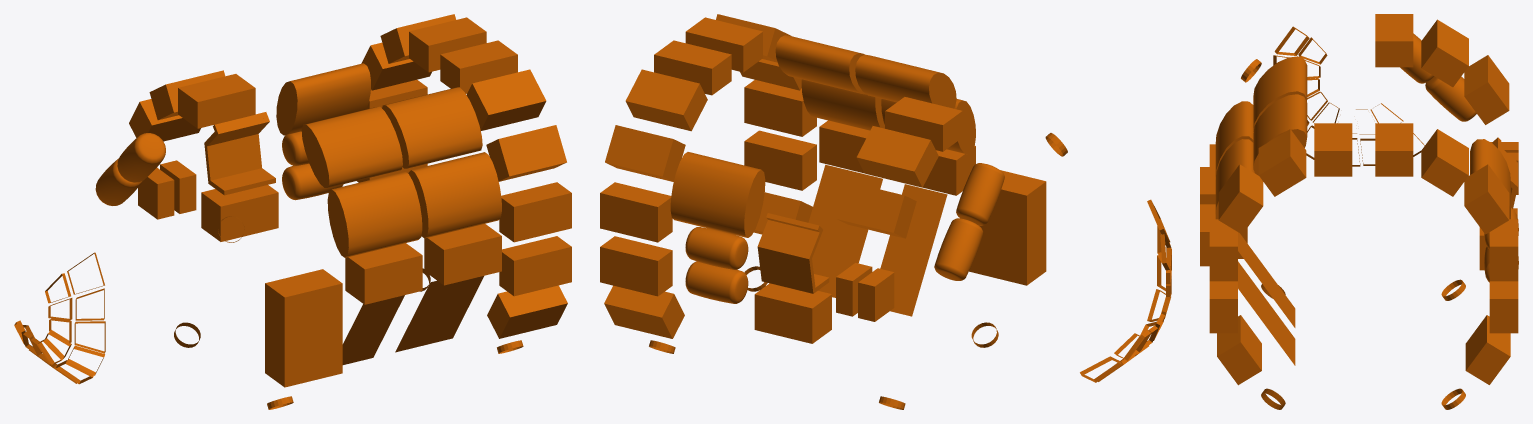
The model's file is Ship_Destructible_002.fbx.
3 renders of one model, left to right at view 1: azimuth 30°, elevation 25°; view 2: azimuth 150°, elevation 25°; view 3: azimuth 270°, elevation 25°, orthographic. The views are drawn at different scales.
Visible parts, largest first — view 1: pasted__pasted__pasted__polySurface135, pasted__pasted__pasted__pCylinder3, pasted__pasted__pasted__pCylinder6, pasted__pasted__pasted__pCylinder4, pasted__pasted__pasted__pCylinder5, pasted__pasted__pasted__pCylinder8, pasted__pasted__pasted__pasted__pCube2, pasted__pasted__pasted__pasted__polySurface134, pasted__pasted__pasted__pasted__pCube37, pasted__pasted__pasted__pasted__pCube8, pasted__pasted__pasted__pasted__pCube1, pasted__pasted__pasted__pasted__pCube11 (+21 smaller); view 2: pasted__pasted__pasted__polySurface135, pasted__pasted__pasted__pCylinder8, pasted__pasted__pasted__polySurface54, pasted__pasted__pasted__polySurface52, pasted__pasted__pasted__pasted__pCube37, pasted__pasted__pasted__pCylinder6, pasted__pasted__pasted__pasted__polySurface69, pasted__pasted__pasted__pasted__polySurface75, pasted__pasted__pasted__pasted__polySurface72, pasted__pasted__pasted__pasted__polySurface71, pasted__pasted__pasted__pCylinder5, pasted__pasted__pasted__pasted__pCube1 (+22 smaller); view 3: pasted__pasted__pasted__pasted__pCube11, pasted__pasted__pasted__pasted__polySurface75, pasted__pasted__pasted__pasted__polySurface69, pasted__pasted__pasted__pasted__pCube9, pasted__pasted__pasted__pasted__polySurface70, pasted__pasted__pasted__pasted__polySurface74, pasted__pasted__pasted__pCylinder5, pasted__pasted__pasted__pCylinder6, pasted__pasted__pasted__pasted__pCube12, pasted__pasted__pasted__pasted__polySurface68, pasted__pasted__pasted__pasted__polySurface76, pasted__pasted__pasted__pasted__polySurface73 (+19 smaller).
Boxes of the visible parts, x1=… form: pasted__pasted__pasted__polySurface135: x1=265, y1=269, x2=342, y2=387; pasted__pasted__pasted__pCylinder3: x1=327, y1=171, x2=422, y2=257; pasted__pasted__pasted__pCylinder6: x1=301, y1=106, x2=402, y2=187; pasted__pasted__pasted__pCylinder4: x1=408, y1=152, x2=501, y2=238; pasted__pasted__pasted__pCylinder5: x1=382, y1=87, x2=482, y2=168; pasted__pasted__pasted__pCylinder8: x1=276, y1=63, x2=370, y2=135; pasted__pasted__pasted__pasted__pCube2: x1=424, y1=224, x2=501, y2=285; pasted__pasted__pasted__pasted__polySurface134: x1=345, y1=243, x2=422, y2=304; pasted__pasted__pasted__pasted__pCube37: x1=201, y1=185, x2=278, y2=241; pasted__pasted__pasted__pasted__pCube8: x1=499, y1=182, x2=571, y2=242; pasted__pasted__pasted__pasted__pCube1: x1=499, y1=236, x2=571, y2=296; pasted__pasted__pasted__pasted__pCube11: x1=466, y1=69, x2=546, y2=130; pasted__pasted__pasted__polySurface135: x1=969, y1=170, x2=1046, y2=285; pasted__pasted__pasted__pCylinder8: x1=670, y1=152, x2=765, y2=237; pasted__pasted__pasted__polySurface54: x1=808, y1=164, x2=882, y2=297; pasted__pasted__pasted__polySurface52: x1=880, y1=184, x2=947, y2=316; pasted__pasted__pasted__pasted__pCube37: x1=754, y1=283, x2=831, y2=343; pasted__pasted__pasted__pCylinder6: x1=855, y1=54, x2=956, y2=108; pasted__pasted__pasted__pasted__polySurface69: x1=625, y1=69, x2=707, y2=131; pasted__pasted__pasted__pasted__polySurface75: x1=856, y1=126, x2=938, y2=187; pasted__pasted__pasted__pasted__polySurface72: x1=600, y1=236, x2=672, y2=296; pasted__pasted__pasted__pasted__polySurface71: x1=600, y1=182, x2=672, y2=242; pasted__pasted__pasted__pCylinder5: x1=775, y1=35, x2=866, y2=94; pasted__pasted__pasted__pasted__pCube1: x1=744, y1=130, x2=816, y2=190; pasted__pasted__pasted__pasted__pCube11: x1=1258, y1=129, x2=1306, y2=196; pasted__pasted__pasted__pasted__polySurface75: x1=1421, y1=19, x2=1468, y2=87; pasted__pasted__pasted__pasted__polySurface69: x1=1421, y1=129, x2=1468, y2=196; pasted__pasted__pasted__pasted__pCube9: x1=1218, y1=164, x2=1263, y2=234; pasted__pasted__pasted__pasted__polySurface70: x1=1464, y1=164, x2=1509, y2=234; pasted__pasted__pasted__pasted__polySurface74: x1=1464, y1=55, x2=1509, y2=124; pasted__pasted__pasted__pCylinder5: x1=1253, y1=94, x2=1307, y2=175; pasted__pasted__pasted__pCylinder6: x1=1253, y1=56, x2=1307, y2=131; pasted__pasted__pasted__pasted__pCube12: x1=1314, y1=123, x2=1352, y2=176; pasted__pasted__pasted__pasted__polySurface68: x1=1375, y1=123, x2=1413, y2=176; pasted__pasted__pasted__pasted__polySurface76: x1=1375, y1=14, x2=1413, y2=67; pasted__pasted__pasted__pasted__polySurface73: x1=1465, y1=315, x2=1510, y2=384.
Size of the model in its own units: 3173 by 1809 by 1930.
